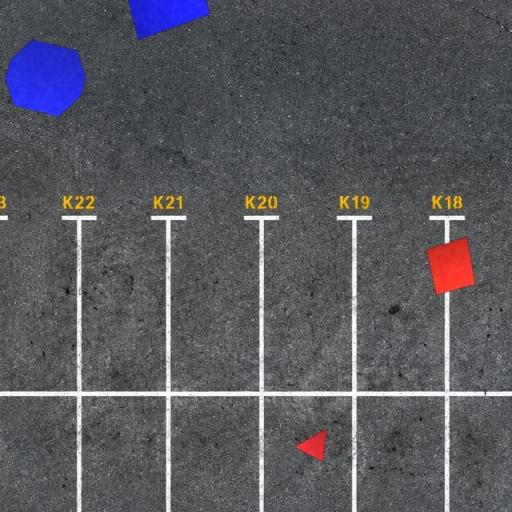RED_SQUARE: (426, 236, 476, 295)
